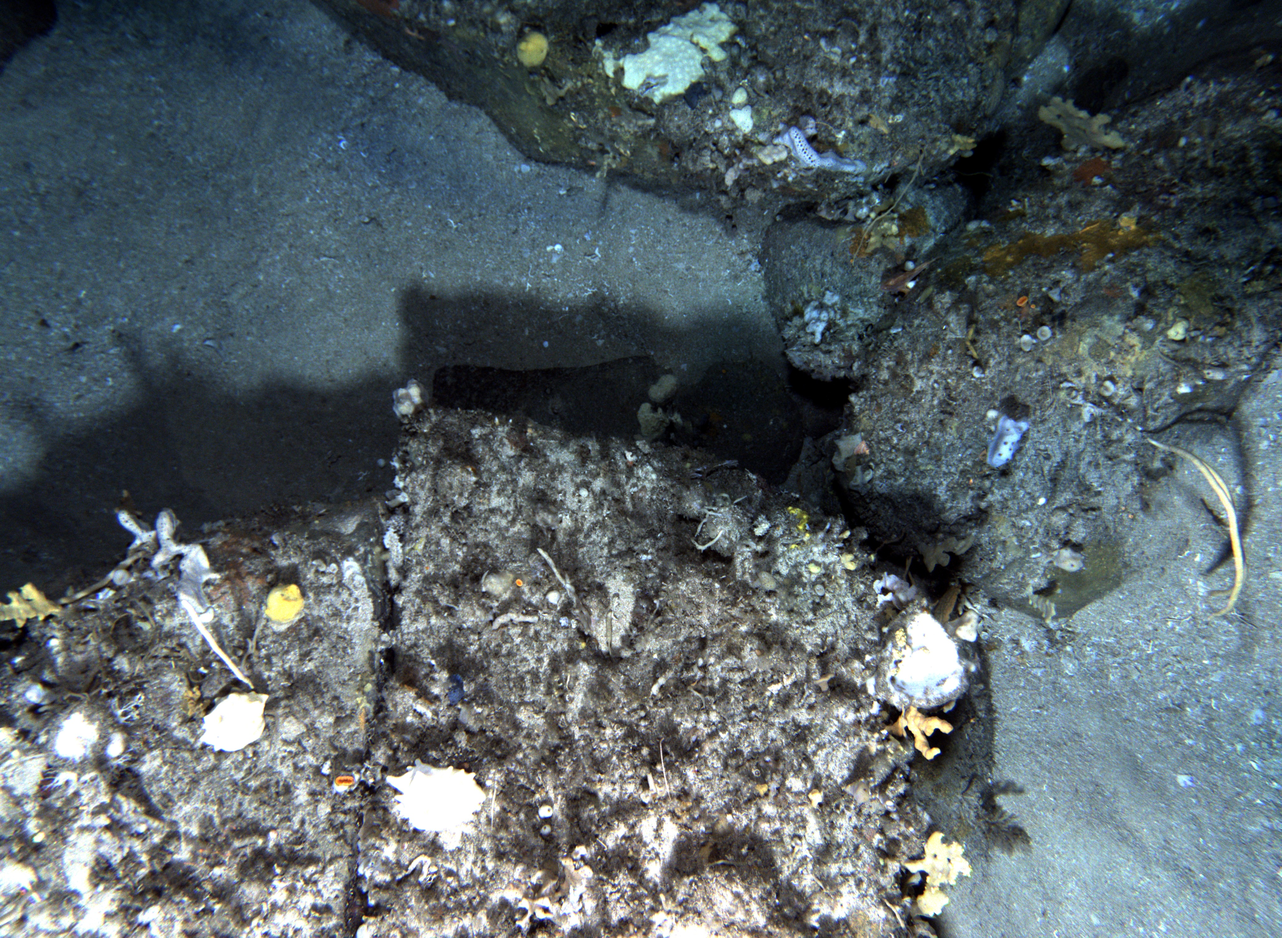Brachionichthyidae: (878, 253, 945, 297)
